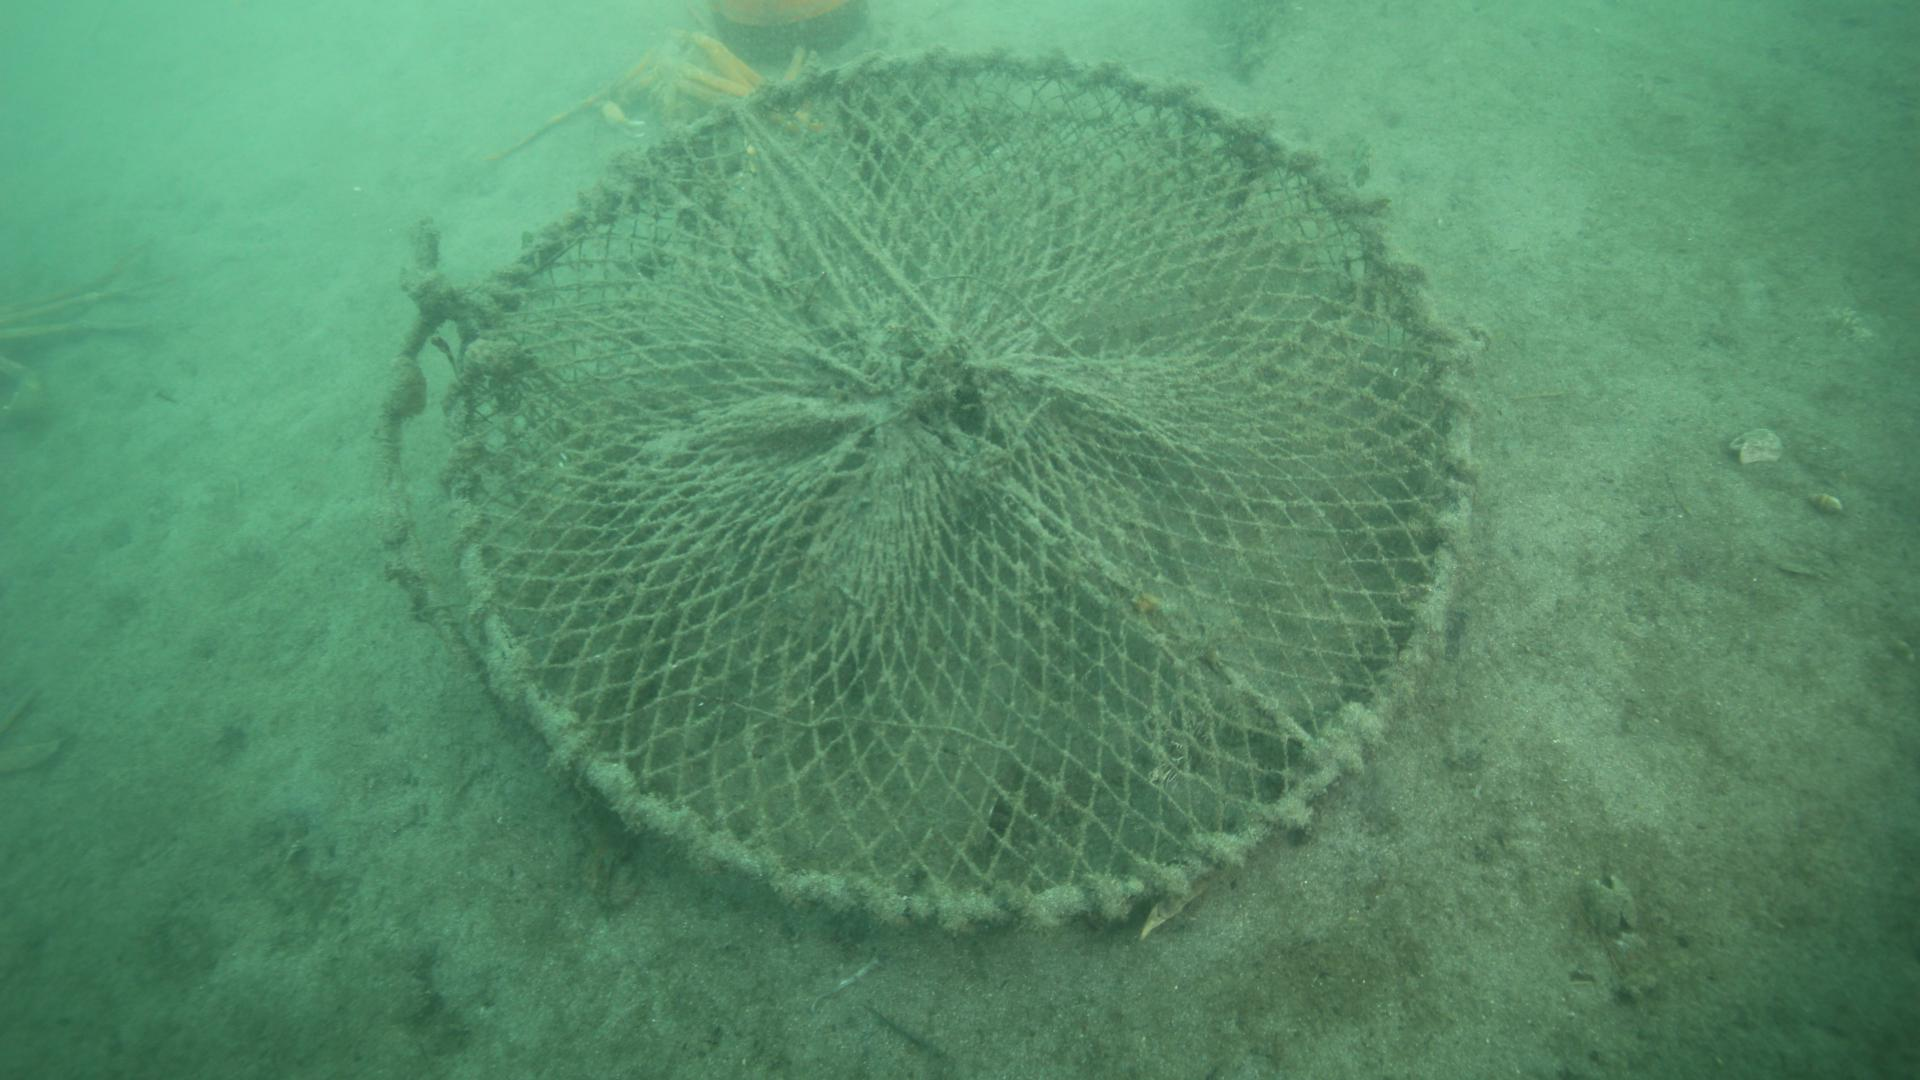circular fish trap: (450, 44, 1466, 926)
